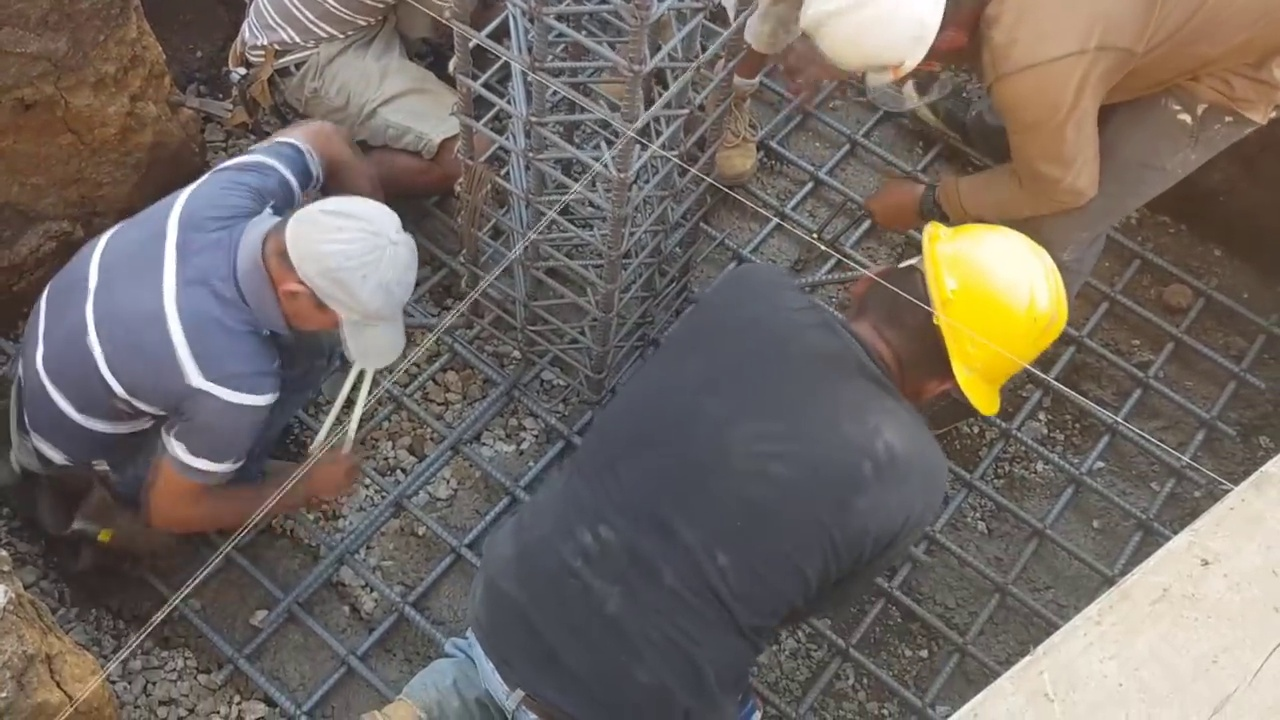helmet: (910, 215, 1068, 417), (803, 0, 947, 86)
helmet-off: (270, 201, 418, 352)
helmet-on: (835, 208, 1070, 419), (802, 1, 1012, 87)
person: (350, 206, 1071, 720), (0, 124, 420, 542), (810, 0, 1280, 302), (230, 2, 510, 190), (598, 0, 795, 189)
